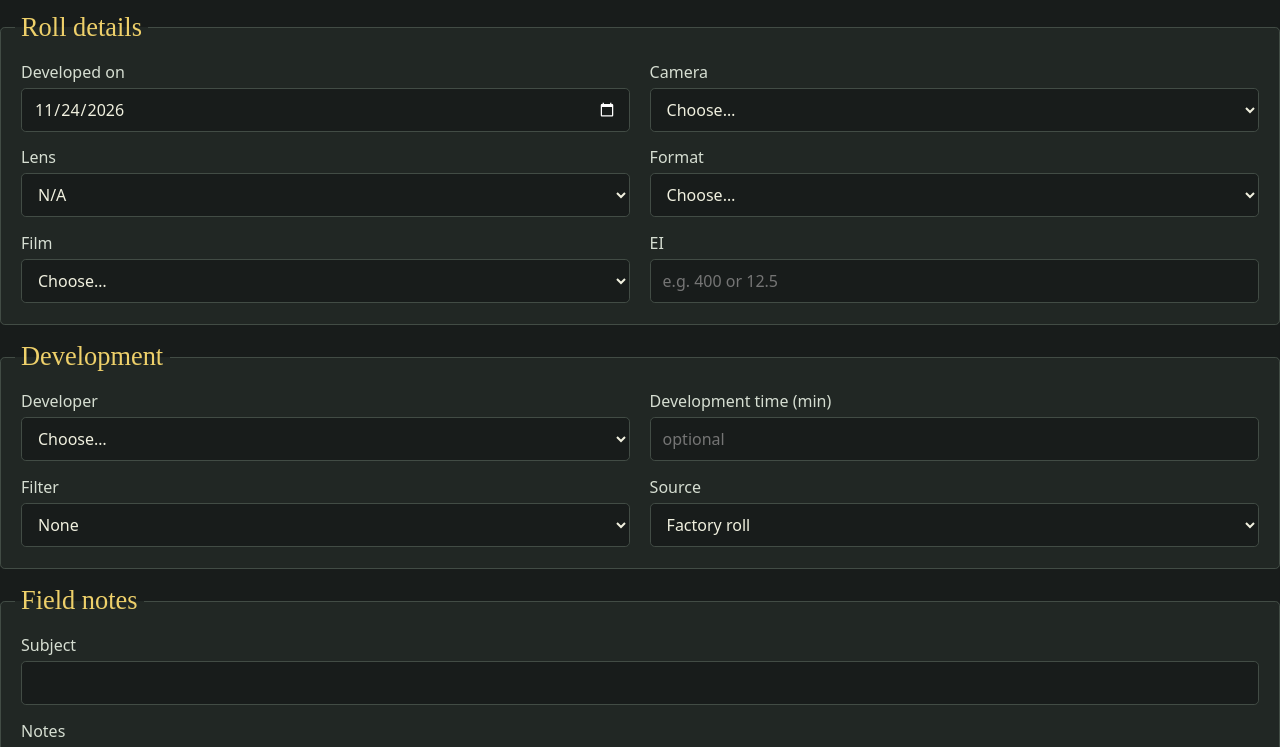
Scenario: a fixed-lens camera's last roll sets the lens to N/A
This screenshot has width=1280, height=747.
Select "Nikon FM2" in the dropdown labelled "Camera". click: x=954, y=110
box: [650,88,1259,132]
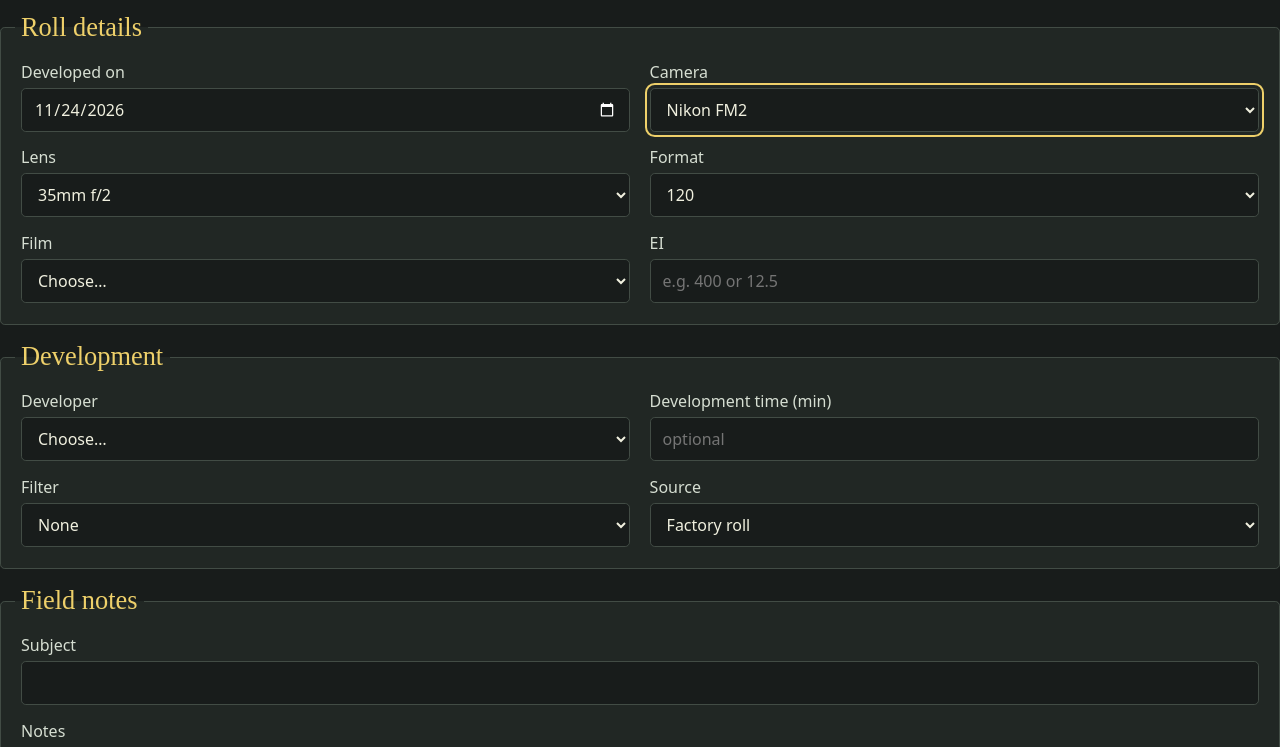
Result: the dropdown labelled "Lens" shows "35mm f/2" at [21,173,630,217]
Select "Olympus XA" in the dropdown labelled "Camera". click: x=954, y=110
box: [650,88,1259,132]
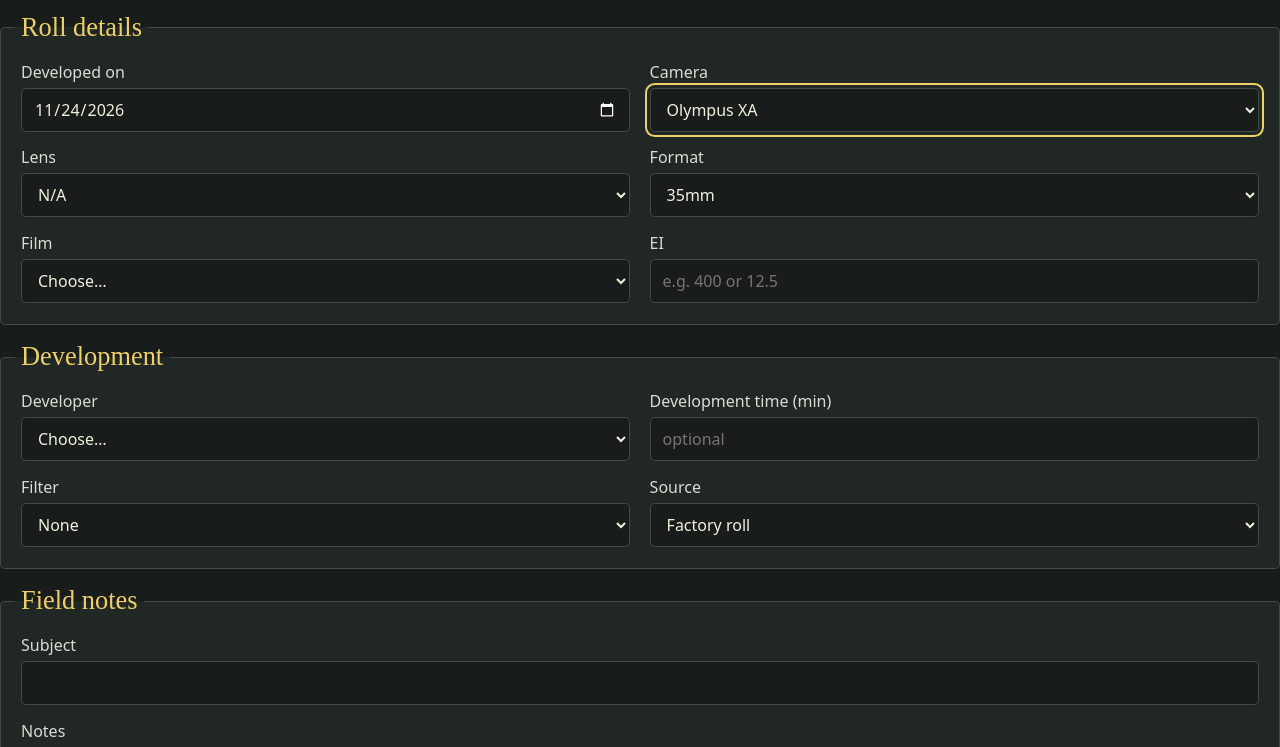
Result: the dropdown labelled "Lens" shows "N/A" at [21,173,630,217]
Result: the dropdown labelled "Format" shows "35mm" at [650,173,1259,217]
